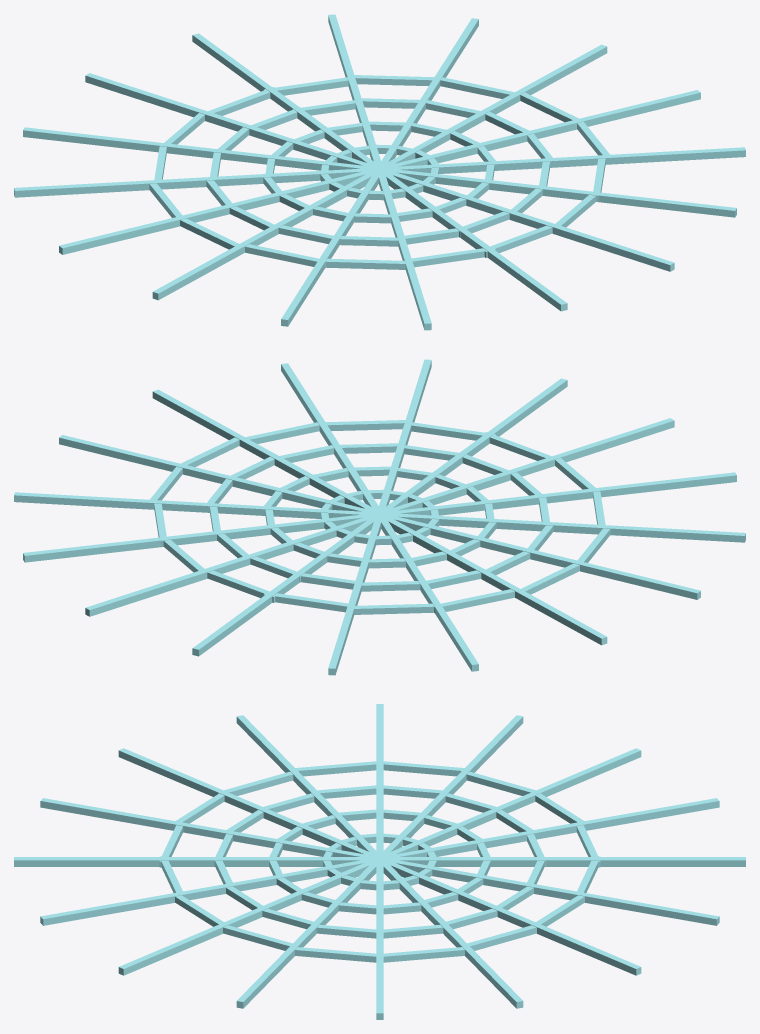
File: spiderWeb.glb
3 views of the same model, one above another, from view 1: azimuth 30°, elevation 25°; view 2: azimuth 150°, elevation 25°; view 3: azimuth 270°, elevation 25° (orthographic).
Visible parts, largest first — view 1: Cube; view 2: Cube; view 3: Cube.
Boxes of the visible parts, x1=… form: Cube: x1=14, y1=14, x2=745, y2=330; Cube: x1=14, y1=359, x2=745, y2=675; Cube: x1=14, y1=704, x2=745, y2=1019.
Bounding box in the file's own units: 10 × 0.1 × 10.
